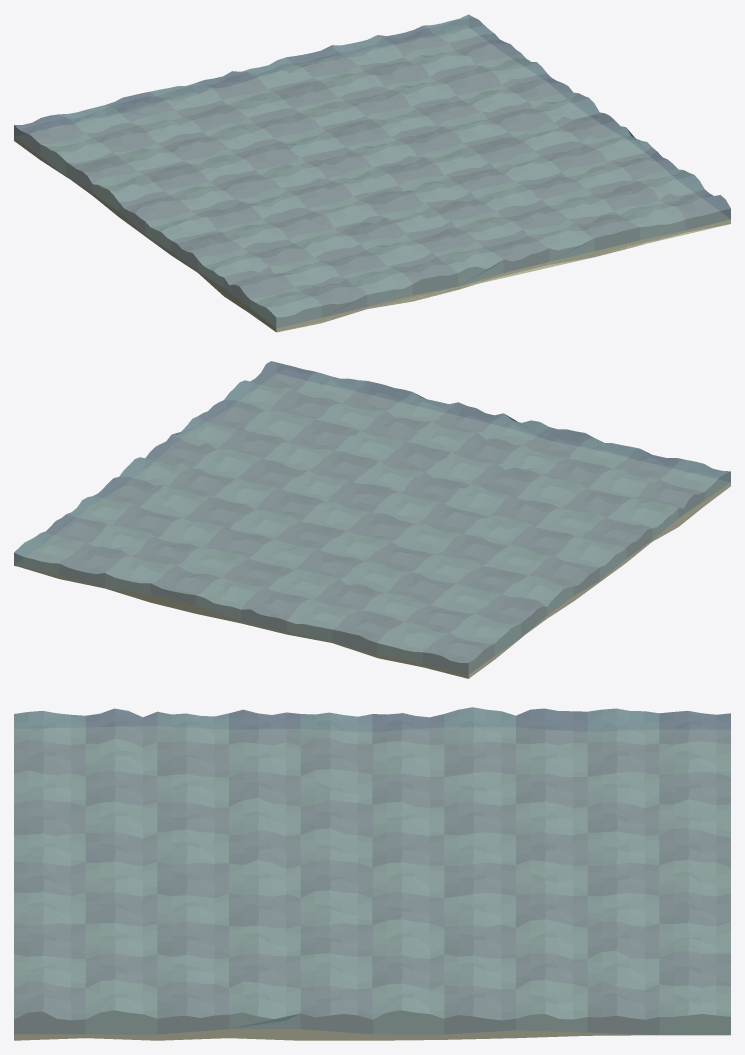
The model's file is Поле (чистое дно).fbx.
3 views of the same model, one above another, from view 1: azimuth 30°, elevation 25°; view 2: azimuth 150°, elevation 25°; view 3: azimuth 270°, elevation 25° (orthographic). The views are drawn at different scales.
Parts seen in each view (by area): view 1: база; view 2: база; view 3: база.
Boxes of the visible parts, x1=… form: база: x1=14, y1=14, x2=730, y2=332; база: x1=14, y1=361, x2=730, y2=678; база: x1=14, y1=707, x2=730, y2=1040.
Bounding box in the file's own units: 20 × 0.9458 × 20.
